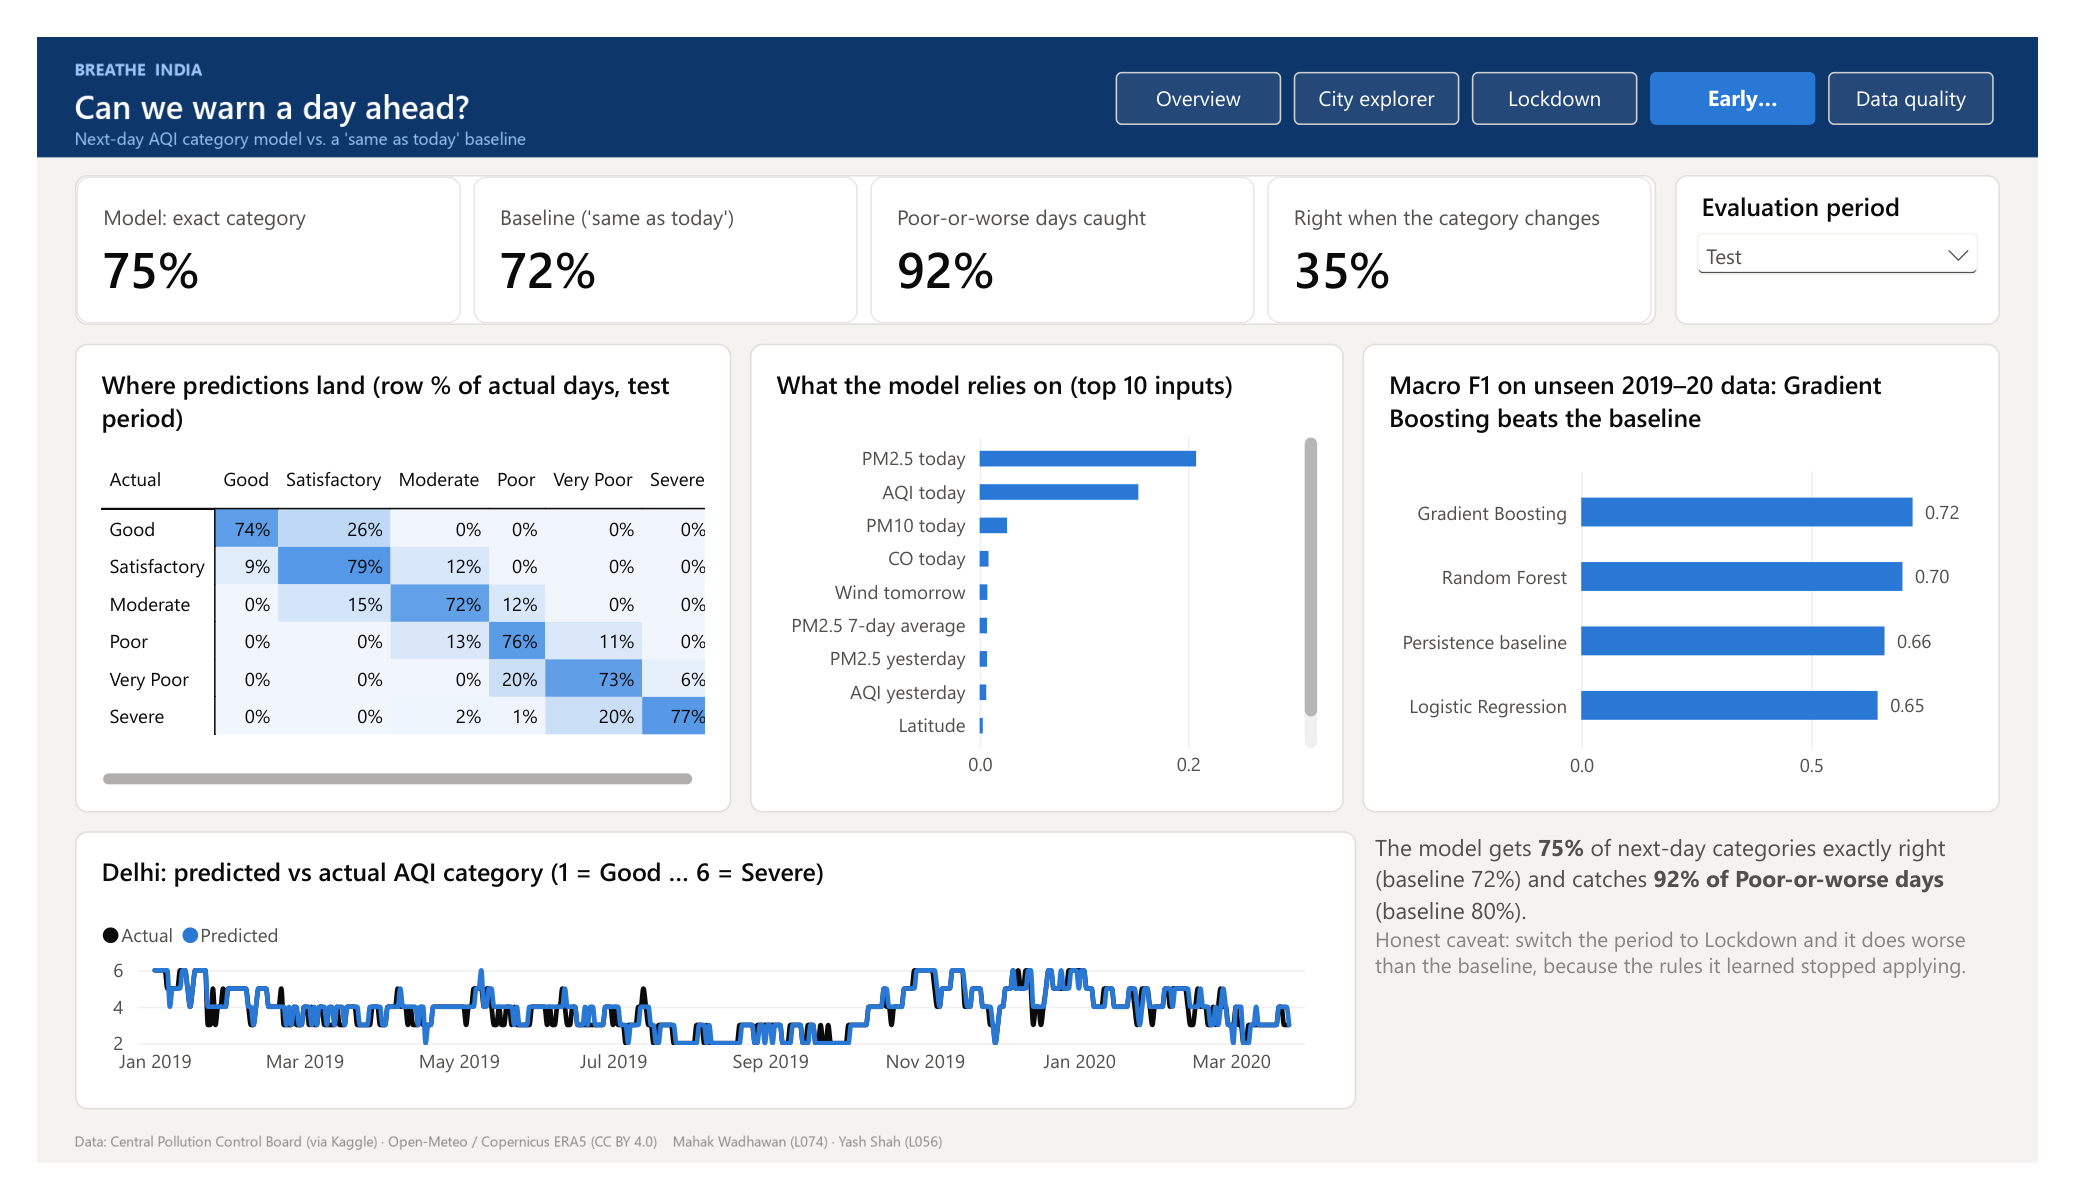

What the dashboard file says about the page in this screenshot:
{"tool":"powerbi","page":{"name":"Early warning","canvas":[1280,720],"ordinal":3},"visuals":[{"type":"cardVisual","fields":{"Data":["_Measures.Model Accuracy","_Measures.Baseline Accuracy","_Measures.Poor+ Recall (Model)","_Measures.Accuracy On Change Days"]},"box":[24,88,1012,96],"z":1000},{"type":"slicer","fields":{"Values":["ml_predictions.split"]},"box":[1048,88,208,96],"z":1000},{"type":"pivotTable","title":"Where predictions land (row % of actual days, test period)","fields":{"Columns":["ml_confusion.predicted"],"Rows":["ml_confusion.actual"],"Values":["_Measures.Confusion Row %"]},"box":[24,196,420,300],"z":1000},{"type":"clusteredBarChart","title":"What the model relies on (top 10 inputs)","fields":{"Category":["ml_feature_importance.label"],"Y":["_Measures.Importance"]},"box":[456,196,380,300],"z":1000},{"type":"clusteredBarChart","title":"Macro F1 on unseen 2019–20 data: Gradient Boosting beats the baseline","fields":{"Category":["ml_model_metrics.model"],"Y":["_Measures.Metric Value"]},"box":[848,196,408,300],"z":1000},{"type":"lineChart","title":"Delhi: predicted vs actual AQI category (1 = Good … 6 = Severe)","fields":{"Category":["dim_date.Date"],"Y":["_Measures.Actual Category","_Measures.Predicted Category"]},"box":[24,508,820,178],"z":1000},{"type":"textbox","box":[856,508,400,178],"z":1000},{"type":"pageNavigator","box":[690,22,566,34],"z":5000}]}

Visuals, with their boxes on the page's 1280x720 design canvas (x1, y1, x2, y2). These are canvas units, not pixel positions in the 2075x1200 screenshot, which may show the page scaled, cropped or inside an application window:
cardVisual - _Measures.Model Accuracy x _Measures.Baseline Accuracy: select_region(24, 88, 1036, 184)
slicer - ml_predictions.split: select_region(1048, 88, 1256, 184)
"Where predictions land (row % of actual days, test period)" pivotTable: select_region(24, 196, 444, 496)
"What the model relies on (top 10 inputs)" clusteredBarChart: select_region(456, 196, 836, 496)
"Macro F1 on unseen 2019–20 data: Gradient Boosting beats the baseline" clusteredBarChart: select_region(848, 196, 1256, 496)
"Delhi: predicted vs actual AQI category (1 = Good … 6 = Severe)" lineChart: select_region(24, 508, 844, 686)
textbox: select_region(856, 508, 1256, 686)
pageNavigator: select_region(690, 22, 1256, 56)
